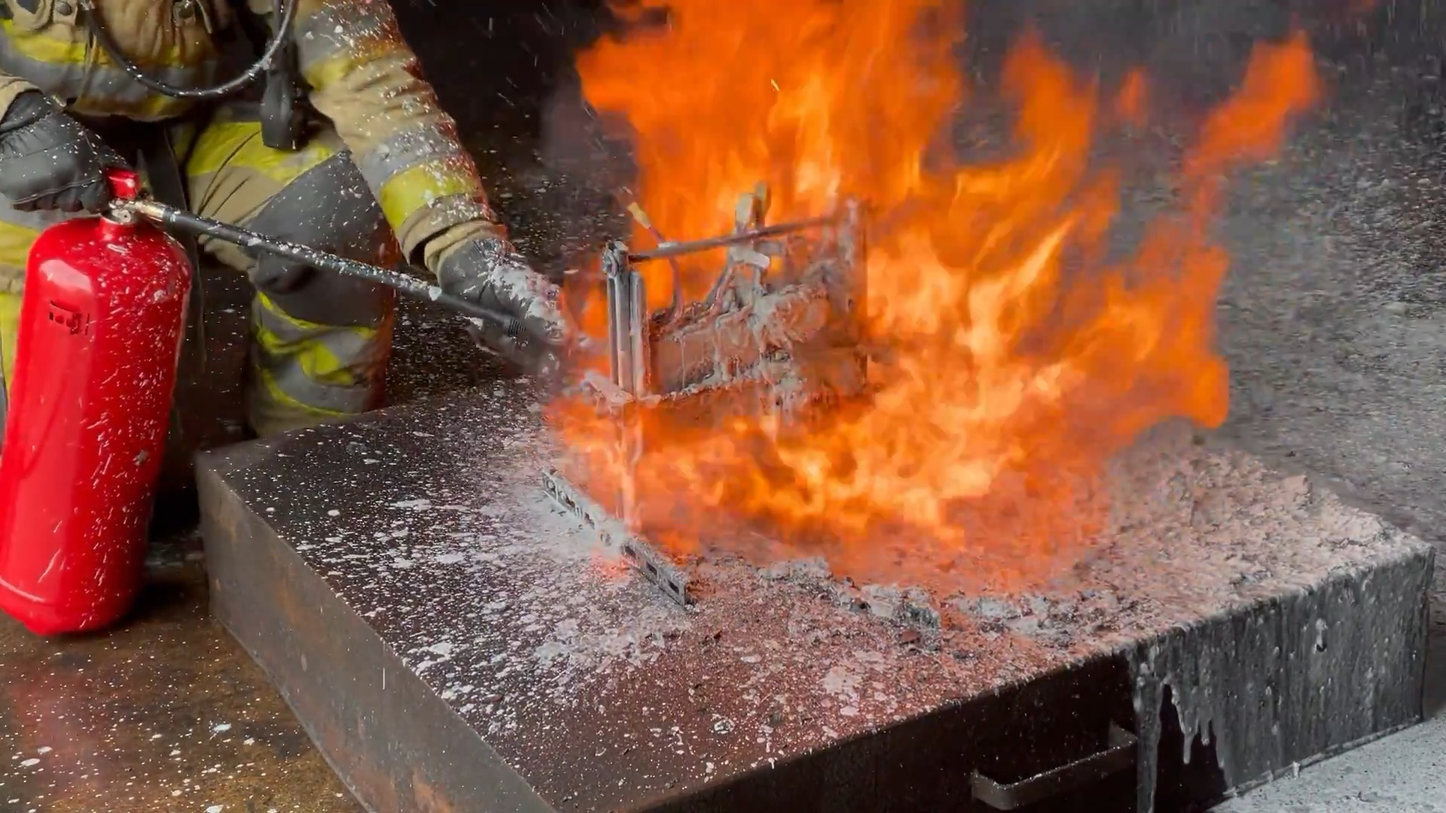fire: (542, 0, 1329, 585)
